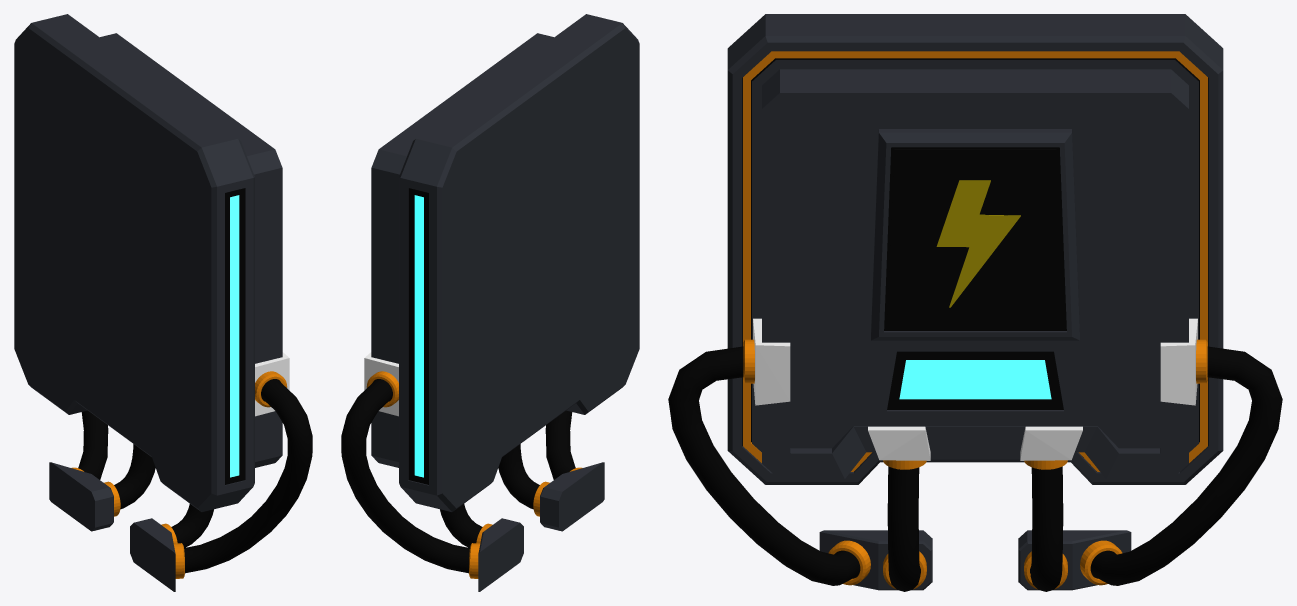
The model's file is SM_Power_Junction.fbx.
The picture shows the model from 3 angles, left to right: view 1: azimuth 30°, elevation 25°; view 2: azimuth 150°, elevation 25°; view 3: azimuth 270°, elevation 25°; orthographic projection. The views are drawn at different scales.
Visible parts, largest first — view 1: SM_Power_Junction_Box_Base; view 2: SM_Power_Junction_Box_Base; view 3: SM_Power_Junction_Box_Base.
Part boxes in pixels (x1=…): SM_Power_Junction_Box_Base: x1=14, y1=14, x2=312, y2=591; SM_Power_Junction_Box_Base: x1=341, y1=14, x2=639, y2=591; SM_Power_Junction_Box_Base: x1=668, y1=14, x2=1282, y2=591.
Bounding box in the file's own units: 20.6 × 101 × 99.15.
